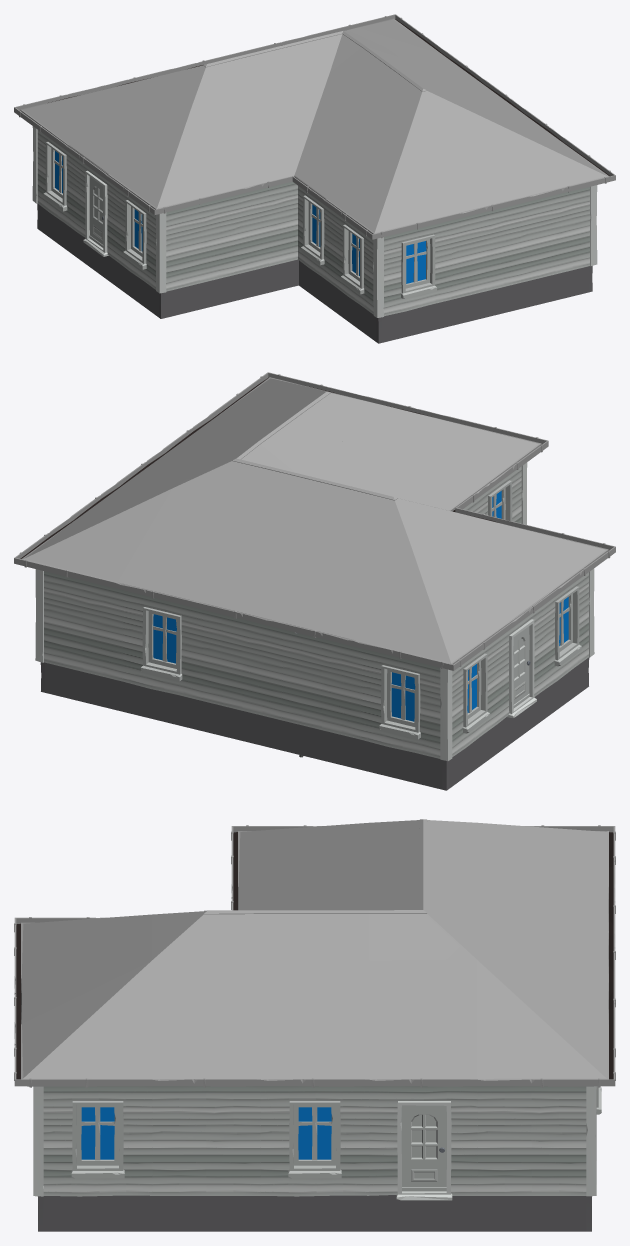
File: SM_Bld_House_Preset_03.fbx
3 renders of one model, top to bottom at view 1: azimuth 30°, elevation 25°; view 2: azimuth 150°, elevation 25°; view 3: azimuth 270°, elevation 25°, orthographic. The views are drawn at different scales.
Visible parts, largest first — view 1: SM_Bld_House_Preset_03; view 2: SM_Bld_House_Preset_03; view 3: SM_Bld_House_Preset_03.
Part boxes in pixels (x1,y1,x2,y2): SM_Bld_House_Preset_03: (14, 14, 615, 343); SM_Bld_House_Preset_03: (14, 372, 615, 790); SM_Bld_House_Preset_03: (14, 819, 615, 1231).
Size of the model in its own units: 1387 by 646 by 1387.
